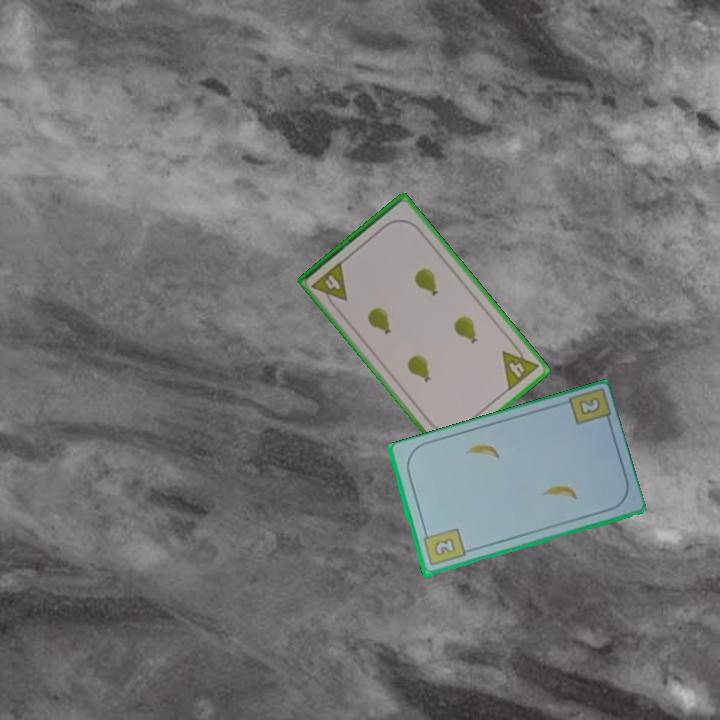2b: (419, 525, 468, 569), (575, 393, 603, 418)
4p: (498, 339, 542, 394), (308, 258, 351, 311)
